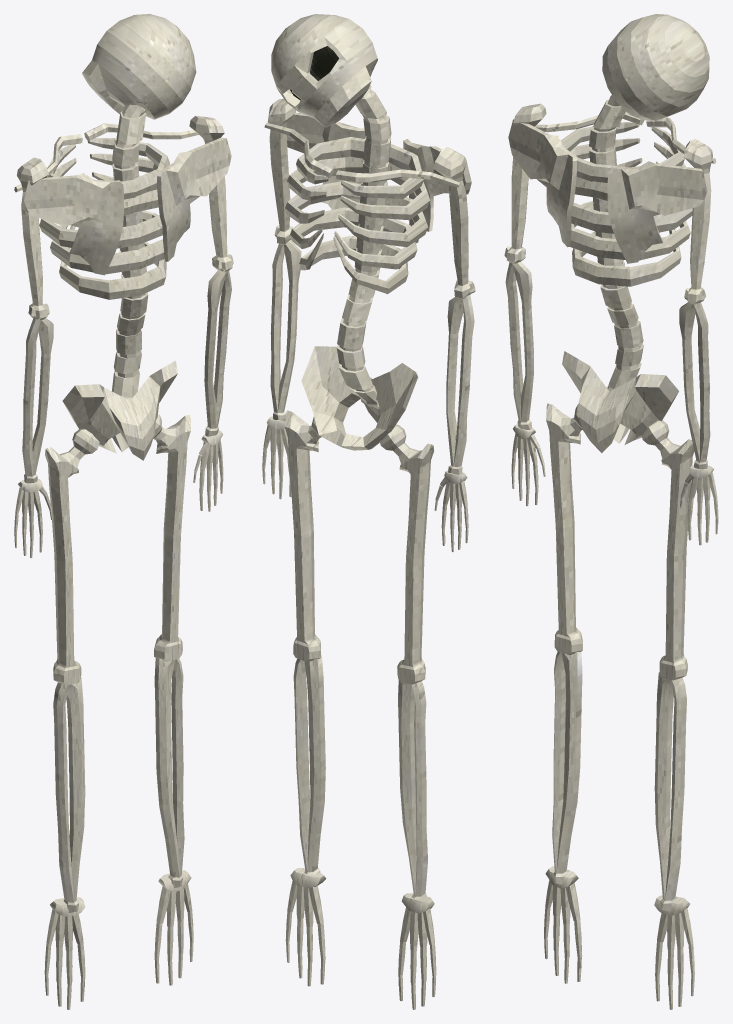
The model's file is Esqueleto.fbx.
The picture shows the model from 3 angles, left to right: view 1: azimuth 30°, elevation 25°; view 2: azimuth 150°, elevation 25°; view 3: azimuth 330°, elevation 25°; orthographic projection.
Parts seen in each view (by area): view 1: Esqueleto; view 2: Esqueleto; view 3: Esqueleto.
Part boxes in pixels (<box>): Esqueleto: <box>14,14,233,1009</box>; Esqueleto: <box>262,14,475,1009</box>; Esqueleto: <box>504,14,718,1009</box>.
Bounding box in the file's own units: 45.31 × 203 × 23.26.
